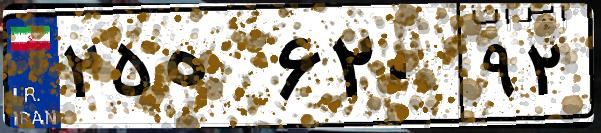0: (385, 28, 445, 110)
2: (330, 28, 385, 110), (57, 26, 110, 100), (525, 38, 570, 115)
5: (110, 28, 158, 98)
6: (270, 28, 330, 110)
9: (475, 38, 525, 113)
ه: (158, 20, 270, 120)
